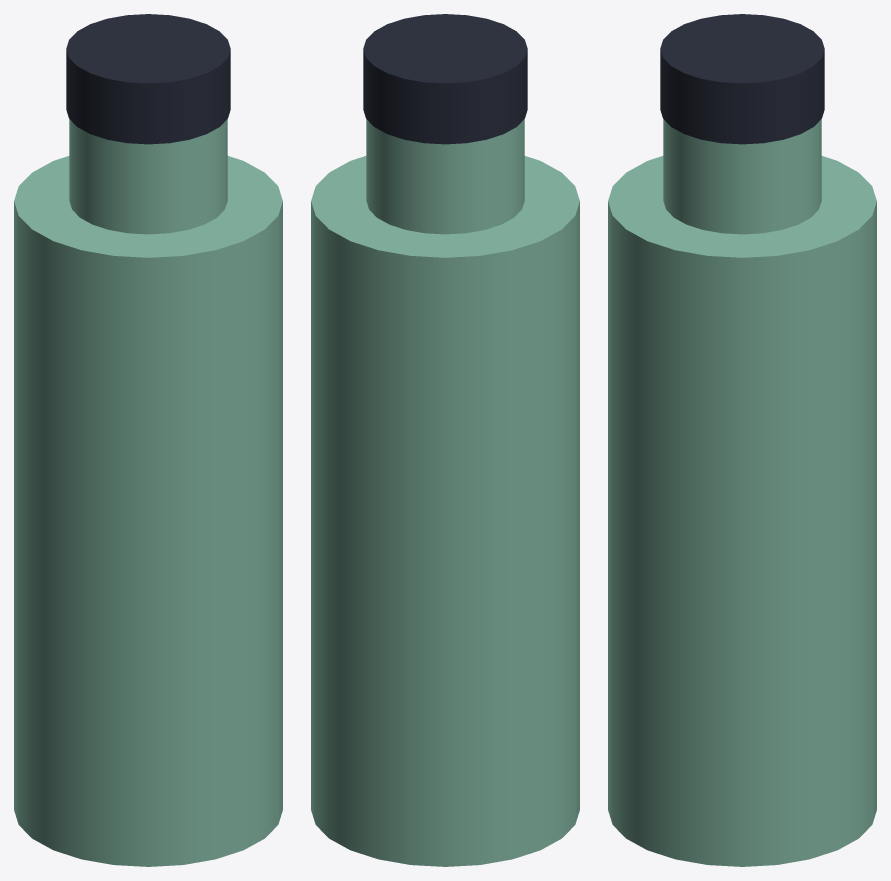
Rendered from water-bottle.glb.
3 renders of one model, left to right at view 1: azimuth 30°, elevation 25°; view 2: azimuth 150°, elevation 25°; view 3: azimuth 270°, elevation 25°, orthographic.
Parts seen in each view (by area): view 1: water-bottle; view 2: water-bottle; view 3: water-bottle.
Boxes of the visible parts, box(x1,y1,x2,y2) form: water-bottle: box(14, 14, 282, 866); water-bottle: box(311, 14, 579, 866); water-bottle: box(608, 14, 876, 866).
Size of the model in its own units: 8 by 25 by 8.
